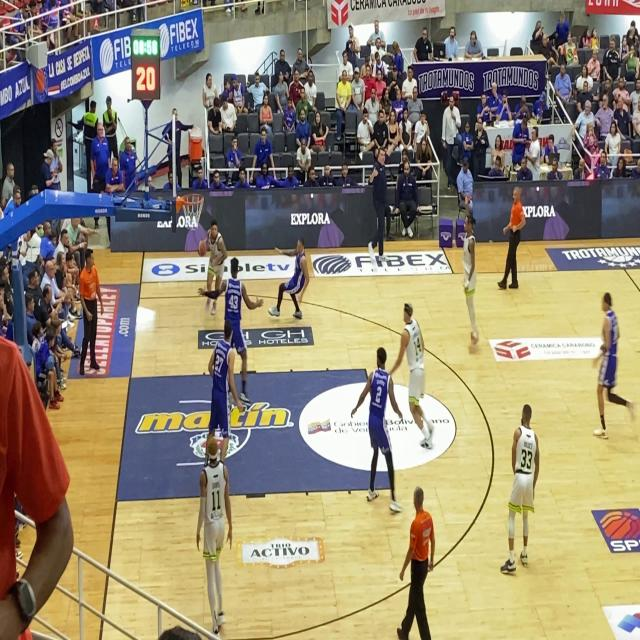Ball: (195, 232, 211, 262)
referee: (396, 465, 438, 640), (72, 242, 109, 381), (498, 175, 530, 304)
team1: (188, 419, 233, 629), (494, 387, 540, 580), (395, 296, 442, 452), (449, 198, 485, 360), (185, 196, 228, 312)
team2: (348, 332, 402, 524), (575, 282, 636, 442), (211, 256, 253, 391), (271, 228, 313, 347), (207, 302, 238, 423)
ubasket: (173, 184, 207, 241)
